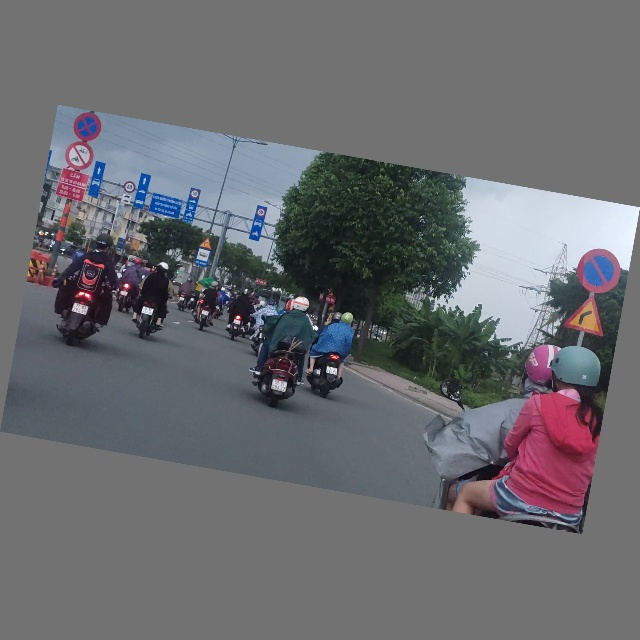I.434a: (194, 247, 211, 268)
P.111: (63, 139, 96, 172)
P.127*50: (256, 207, 267, 218), (190, 190, 200, 200)
P.127*60: (123, 181, 136, 194)
P.130: (71, 110, 104, 144)
P.131a: (572, 245, 625, 299)
S.505a*Xe tai va cong: (120, 194, 132, 206)
W.201b: (561, 290, 611, 338), (198, 236, 214, 251)
